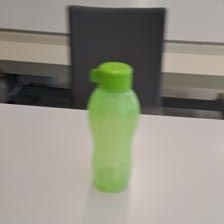bottle: (86, 62, 144, 192)
